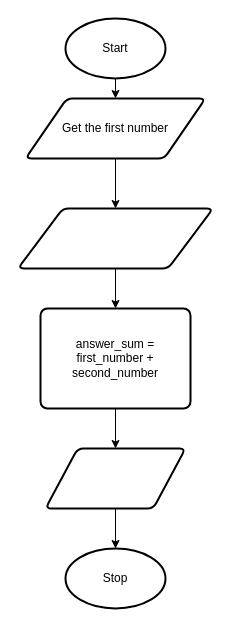
Some shapes in this 231 by 626 pixel diagram are drawn without their labels. The shapes that lost their labels are listed below. From the top down, each one's centre as x and y in pixels, then its label:
pixel 115 238: Get the second number
pixel 115 478: Show answer
